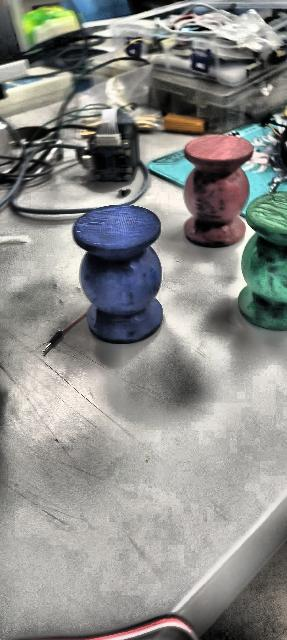blue: (73, 203, 164, 343)
red: (182, 134, 252, 246), (240, 206, 287, 321)
